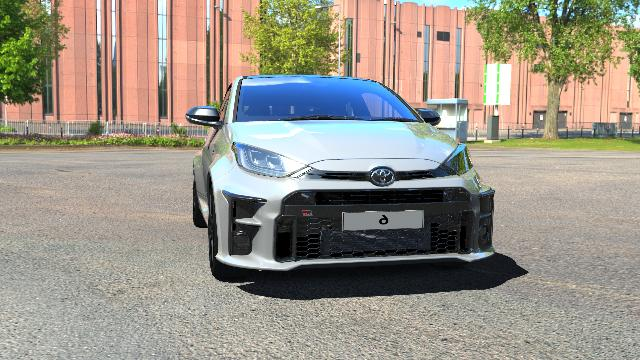License Plate: (342, 210, 422, 232)
